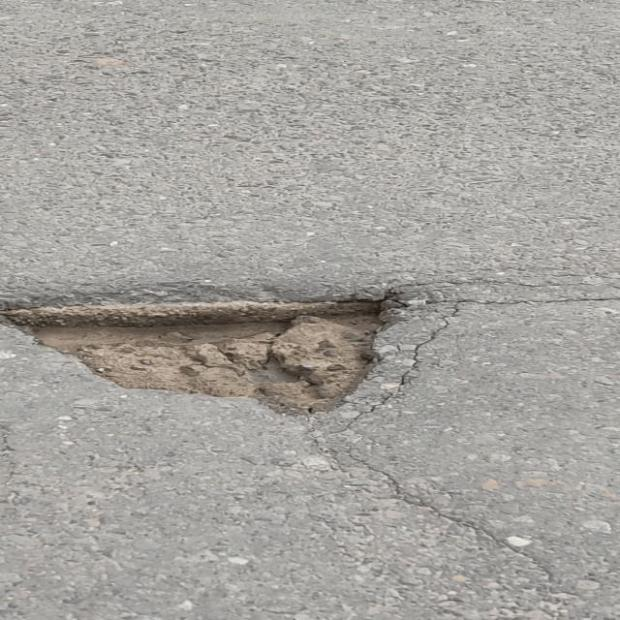lubang: (0, 284, 446, 413)
